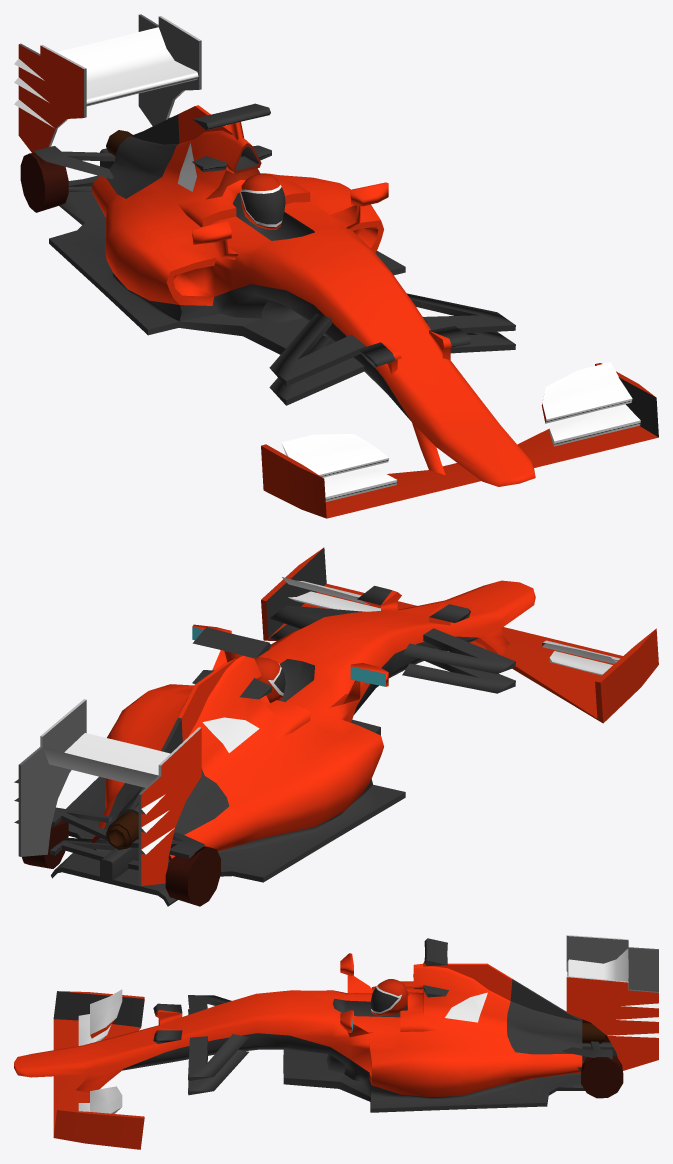
Rendered from F1_body.fbx.
3 renders of one model, top to bottom at view 1: azimuth 30°, elevation 25°; view 2: azimuth 150°, elevation 25°; view 3: azimuth 270°, elevation 25°, orthographic. The views are drawn at different scales.
Visible parts, largest first — view 1: F1_body; view 2: F1_body; view 3: F1_body.
Boxes of the visible parts, bbox=[...] form: F1_body: bbox=[14, 14, 658, 518]; F1_body: bbox=[14, 547, 658, 906]; F1_body: bbox=[14, 935, 658, 1149].
Size of the model in its own units: 281 by 150 by 629.
